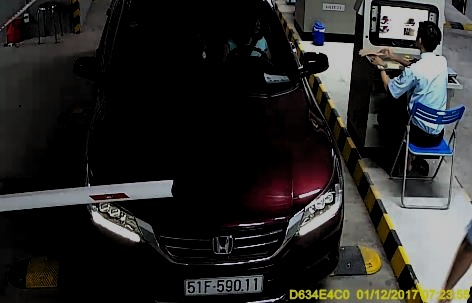plate: (183, 274, 266, 296)
